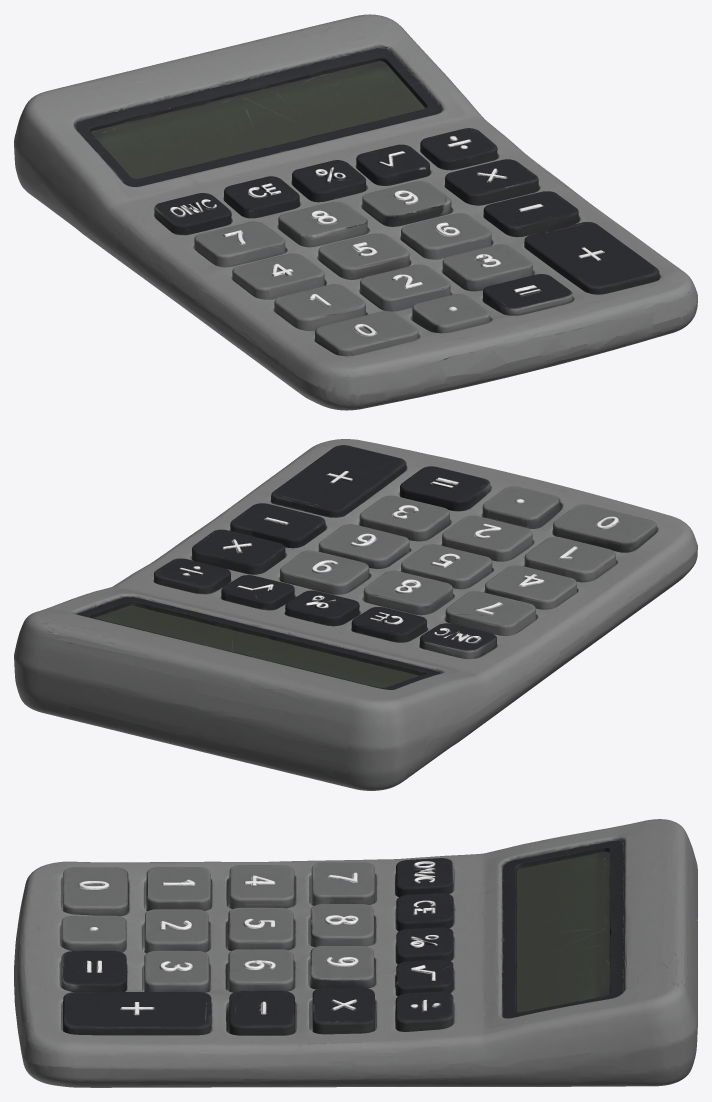
Rendered from original-calc.glb.
The picture shows the model from 3 angles, top to bottom: view 1: azimuth 30°, elevation 25°; view 2: azimuth 150°, elevation 25°; view 3: azimuth 270°, elevation 25°; orthographic projection. The views are drawn at different scales.
Parts seen in each view (by area): view 1: Mesh_0; view 2: Mesh_0; view 3: Mesh_0.
Boxes of the visible parts, <box> form: Mesh_0: <box>14,14,697,410</box>; Mesh_0: <box>14,439,697,790</box>; Mesh_0: <box>14,819,697,1087</box>.
Size of the model in its own units: 1.28 by 0.2801 by 1.9.
Materials: 1 (1 with a texture image).
